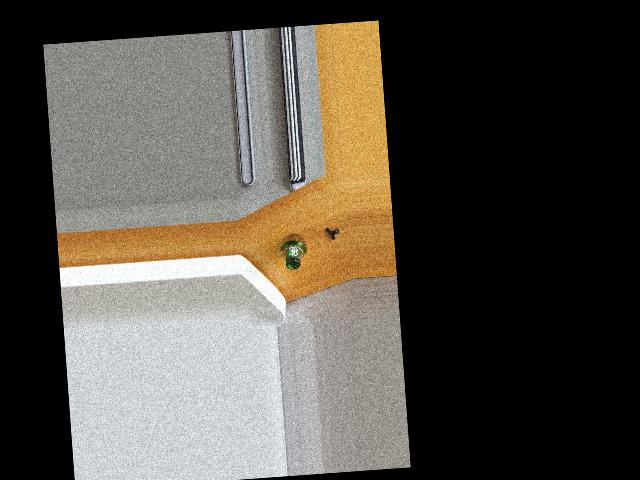beer: (278, 232, 308, 270)
